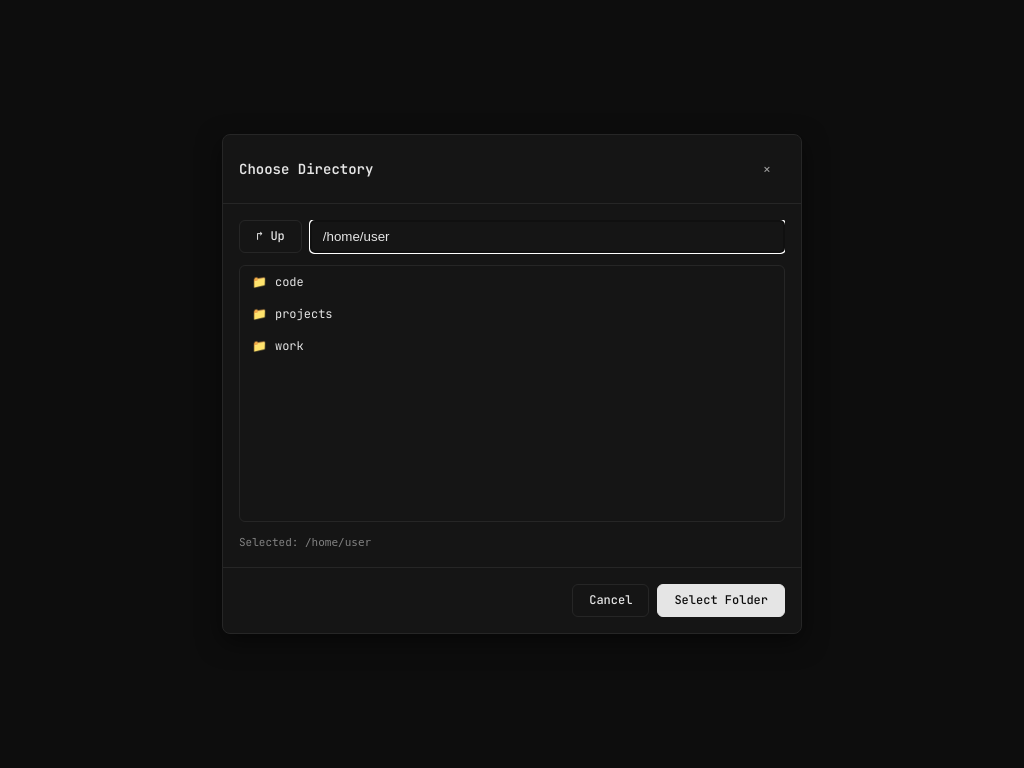
Scenario: FolderChooserDialog › double-click descends into a directory and lists its children
This screenshot has width=1024, height=768.
Double-click the text "projects".
double_click(304, 314)  # box [275, 306, 333, 322]
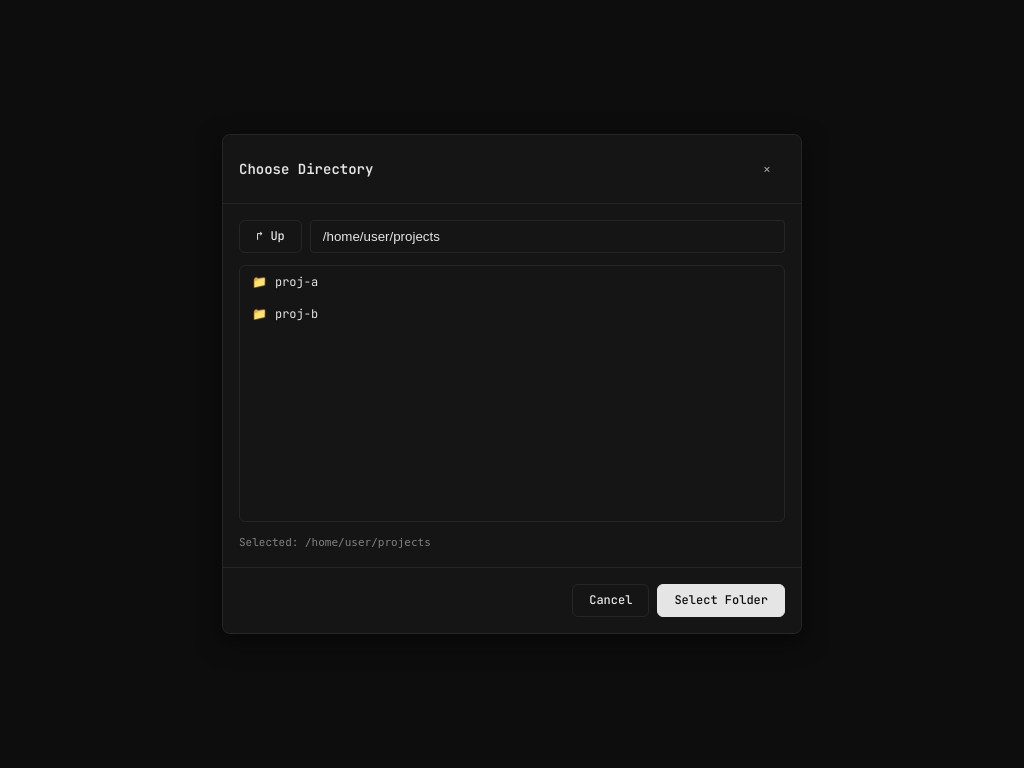
Check: the text "proj-a" is shown, box [275, 274, 318, 290]
Check: the text "proj-b" is shown, box [275, 306, 318, 322]
Check: the field showing "/home/user/projects" is shown, box [310, 220, 785, 253]
